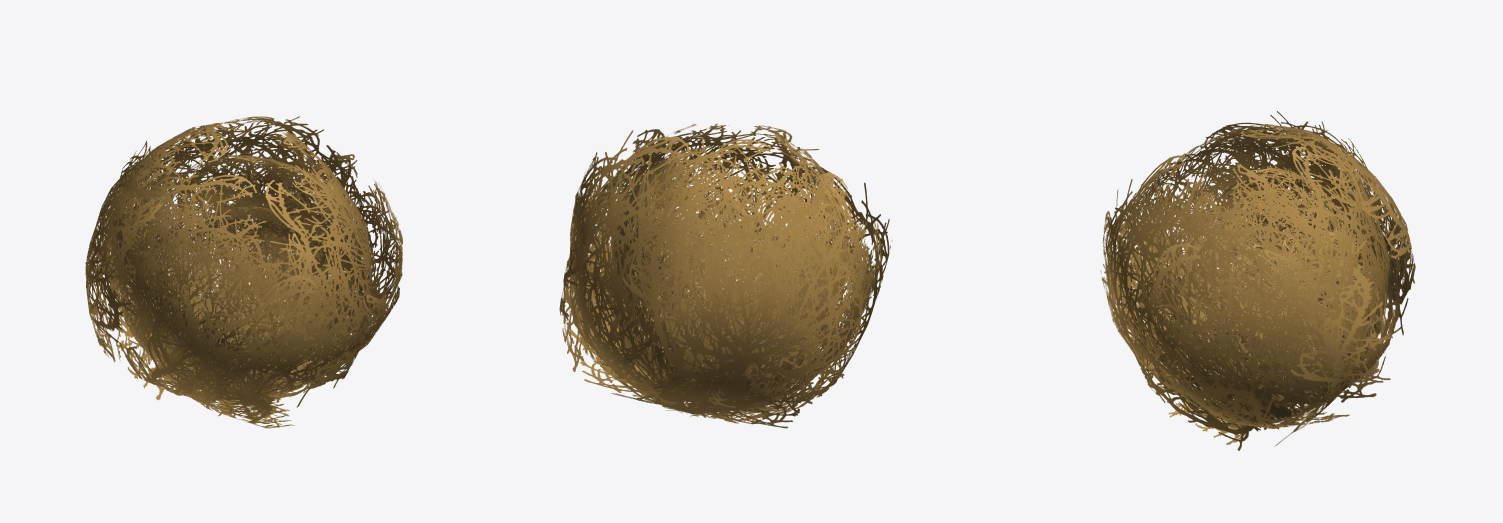
The model's file is tumbleweed_jumping.glb.
The picture shows the model from 3 angles, left to right: view 1: azimuth 30°, elevation 25°; view 2: azimuth 150°, elevation 25°; view 3: azimuth 270°, elevation 25°; orthographic projection. The views are drawn at different scales.
Parts seen in each view (by area): view 1: tumbleweed; view 2: tumbleweed; view 3: tumbleweed.
Boxes of the visible parts, x1,y1,x2,y2 form: tumbleweed: (85,116,402,428); tumbleweed: (559,123,892,428); tumbleweed: (1100,111,1415,450).
Size of the model in its own units: 0.7804 by 0.9952 by 0.9139.
Materials: 1 (1 with a texture image).
